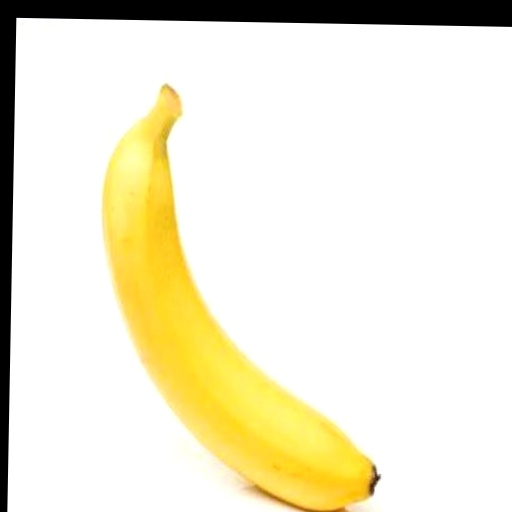fruit: (103, 85, 377, 510)
